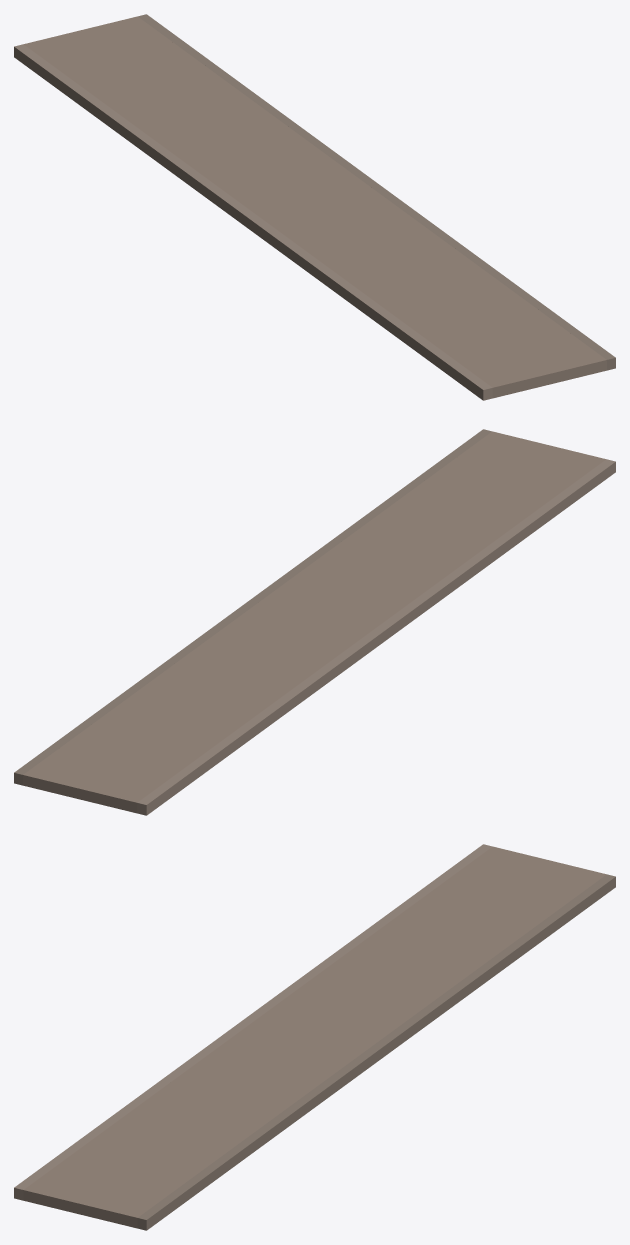
The model's file is plank.glb.
3 views of the same model, one above another, from view 1: azimuth 30°, elevation 25°; view 2: azimuth 150°, elevation 25°; view 3: azimuth 330°, elevation 25° (orthographic).
Visible parts, largest first — view 1: _MeshInstance3D_44; view 2: _MeshInstance3D_44; view 3: _MeshInstance3D_44.
Part boxes in pixels (x1,y1,x2,y2): _MeshInstance3D_44: (14,14,615,400); _MeshInstance3D_44: (14,429,615,815); _MeshInstance3D_44: (14,844,615,1230).
Size of the model in its own units: 0.3328 by 0.0256 by 2.04.
